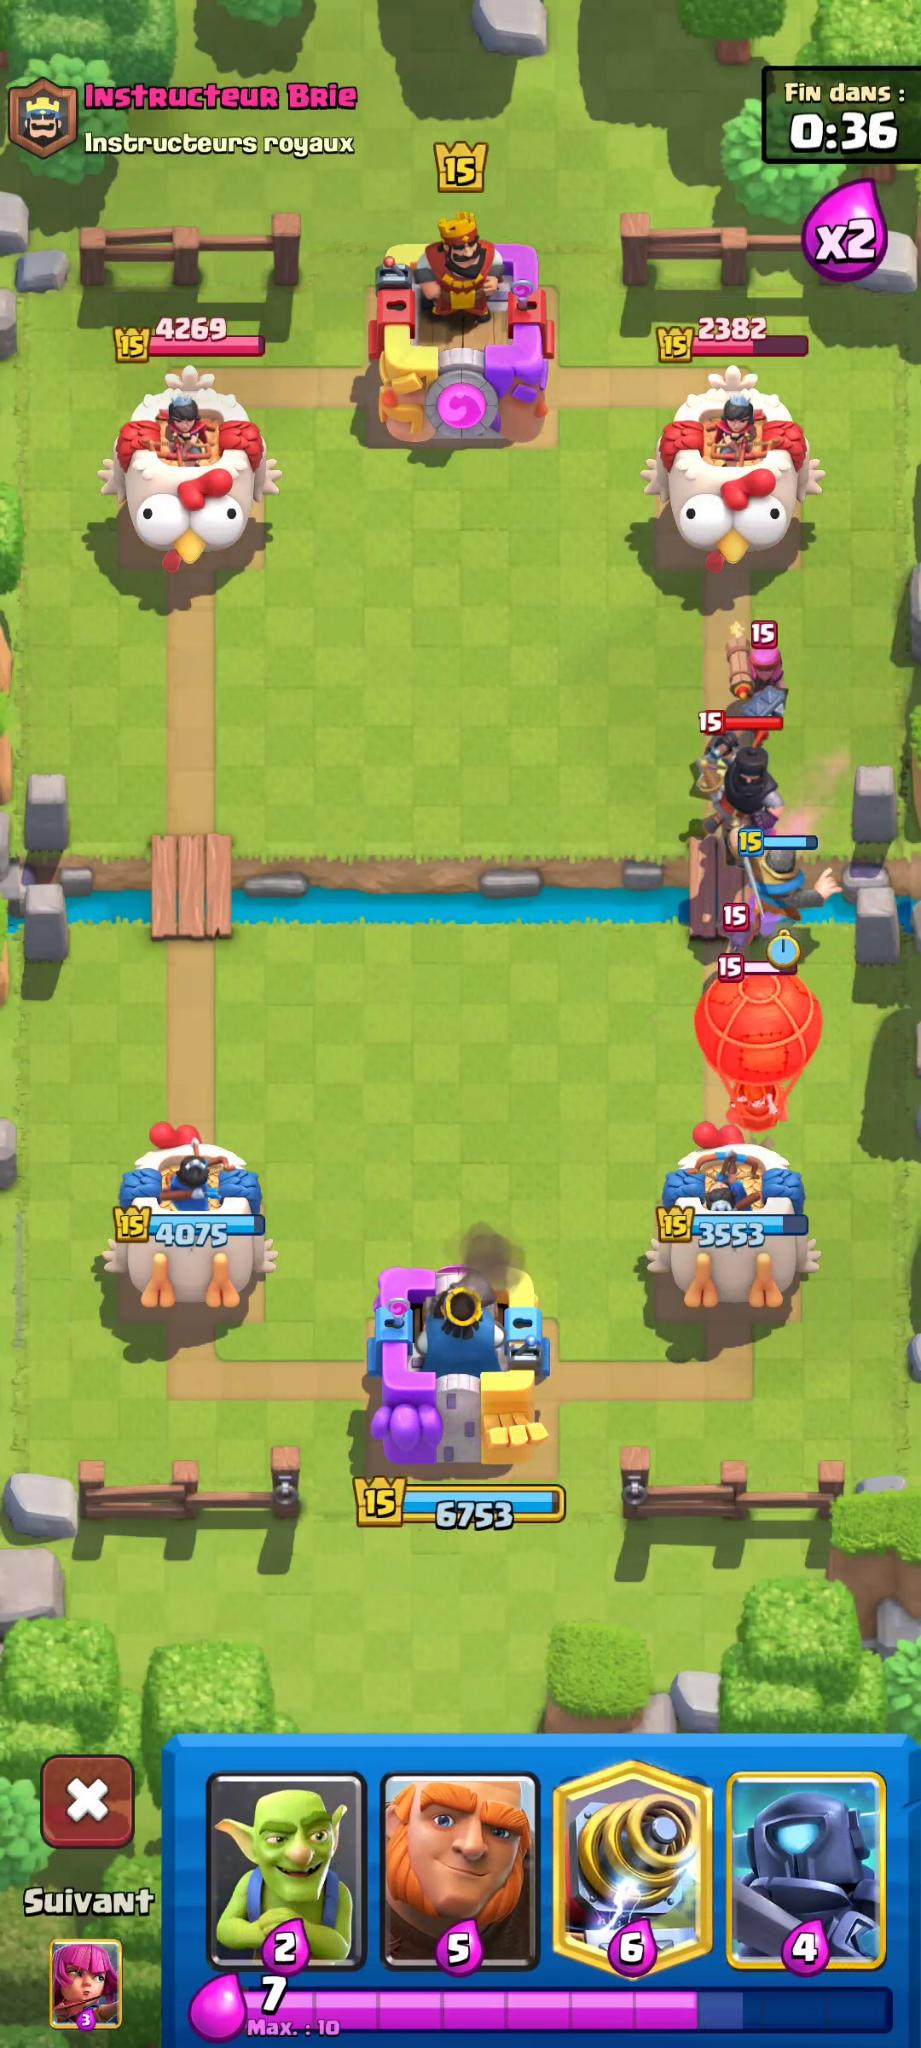bat: (717, 904, 766, 952)
chevalier: (743, 835, 833, 929)
